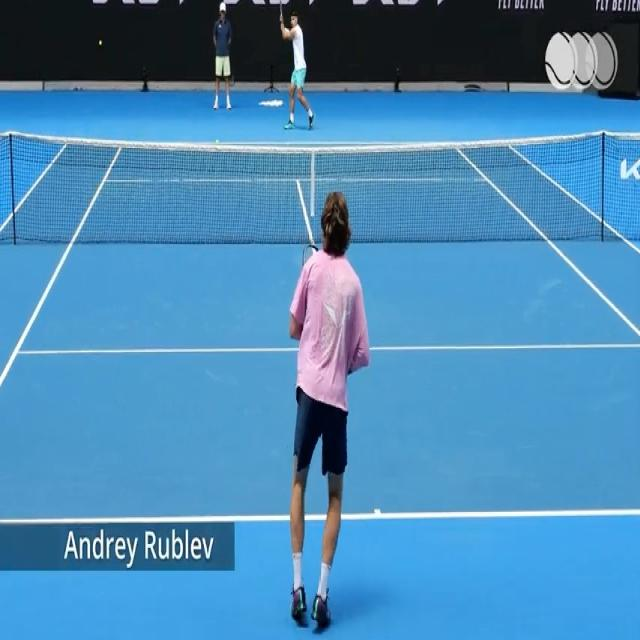ready-position: (280, 193, 379, 624)
